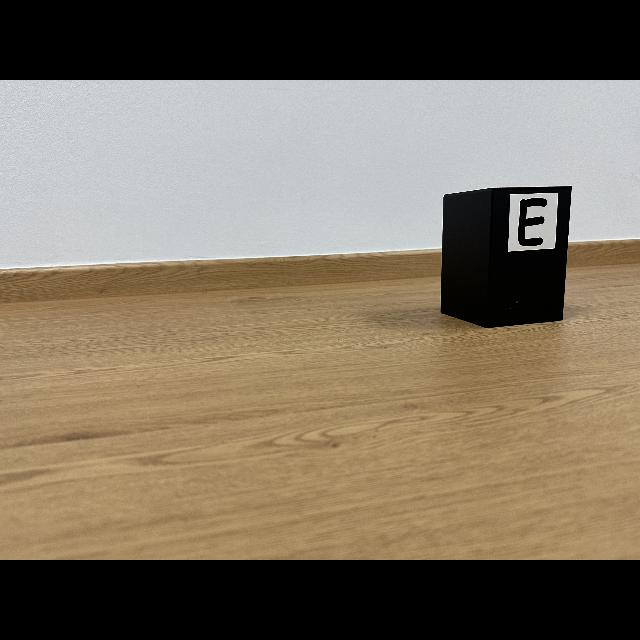E: (518, 198, 548, 246)
